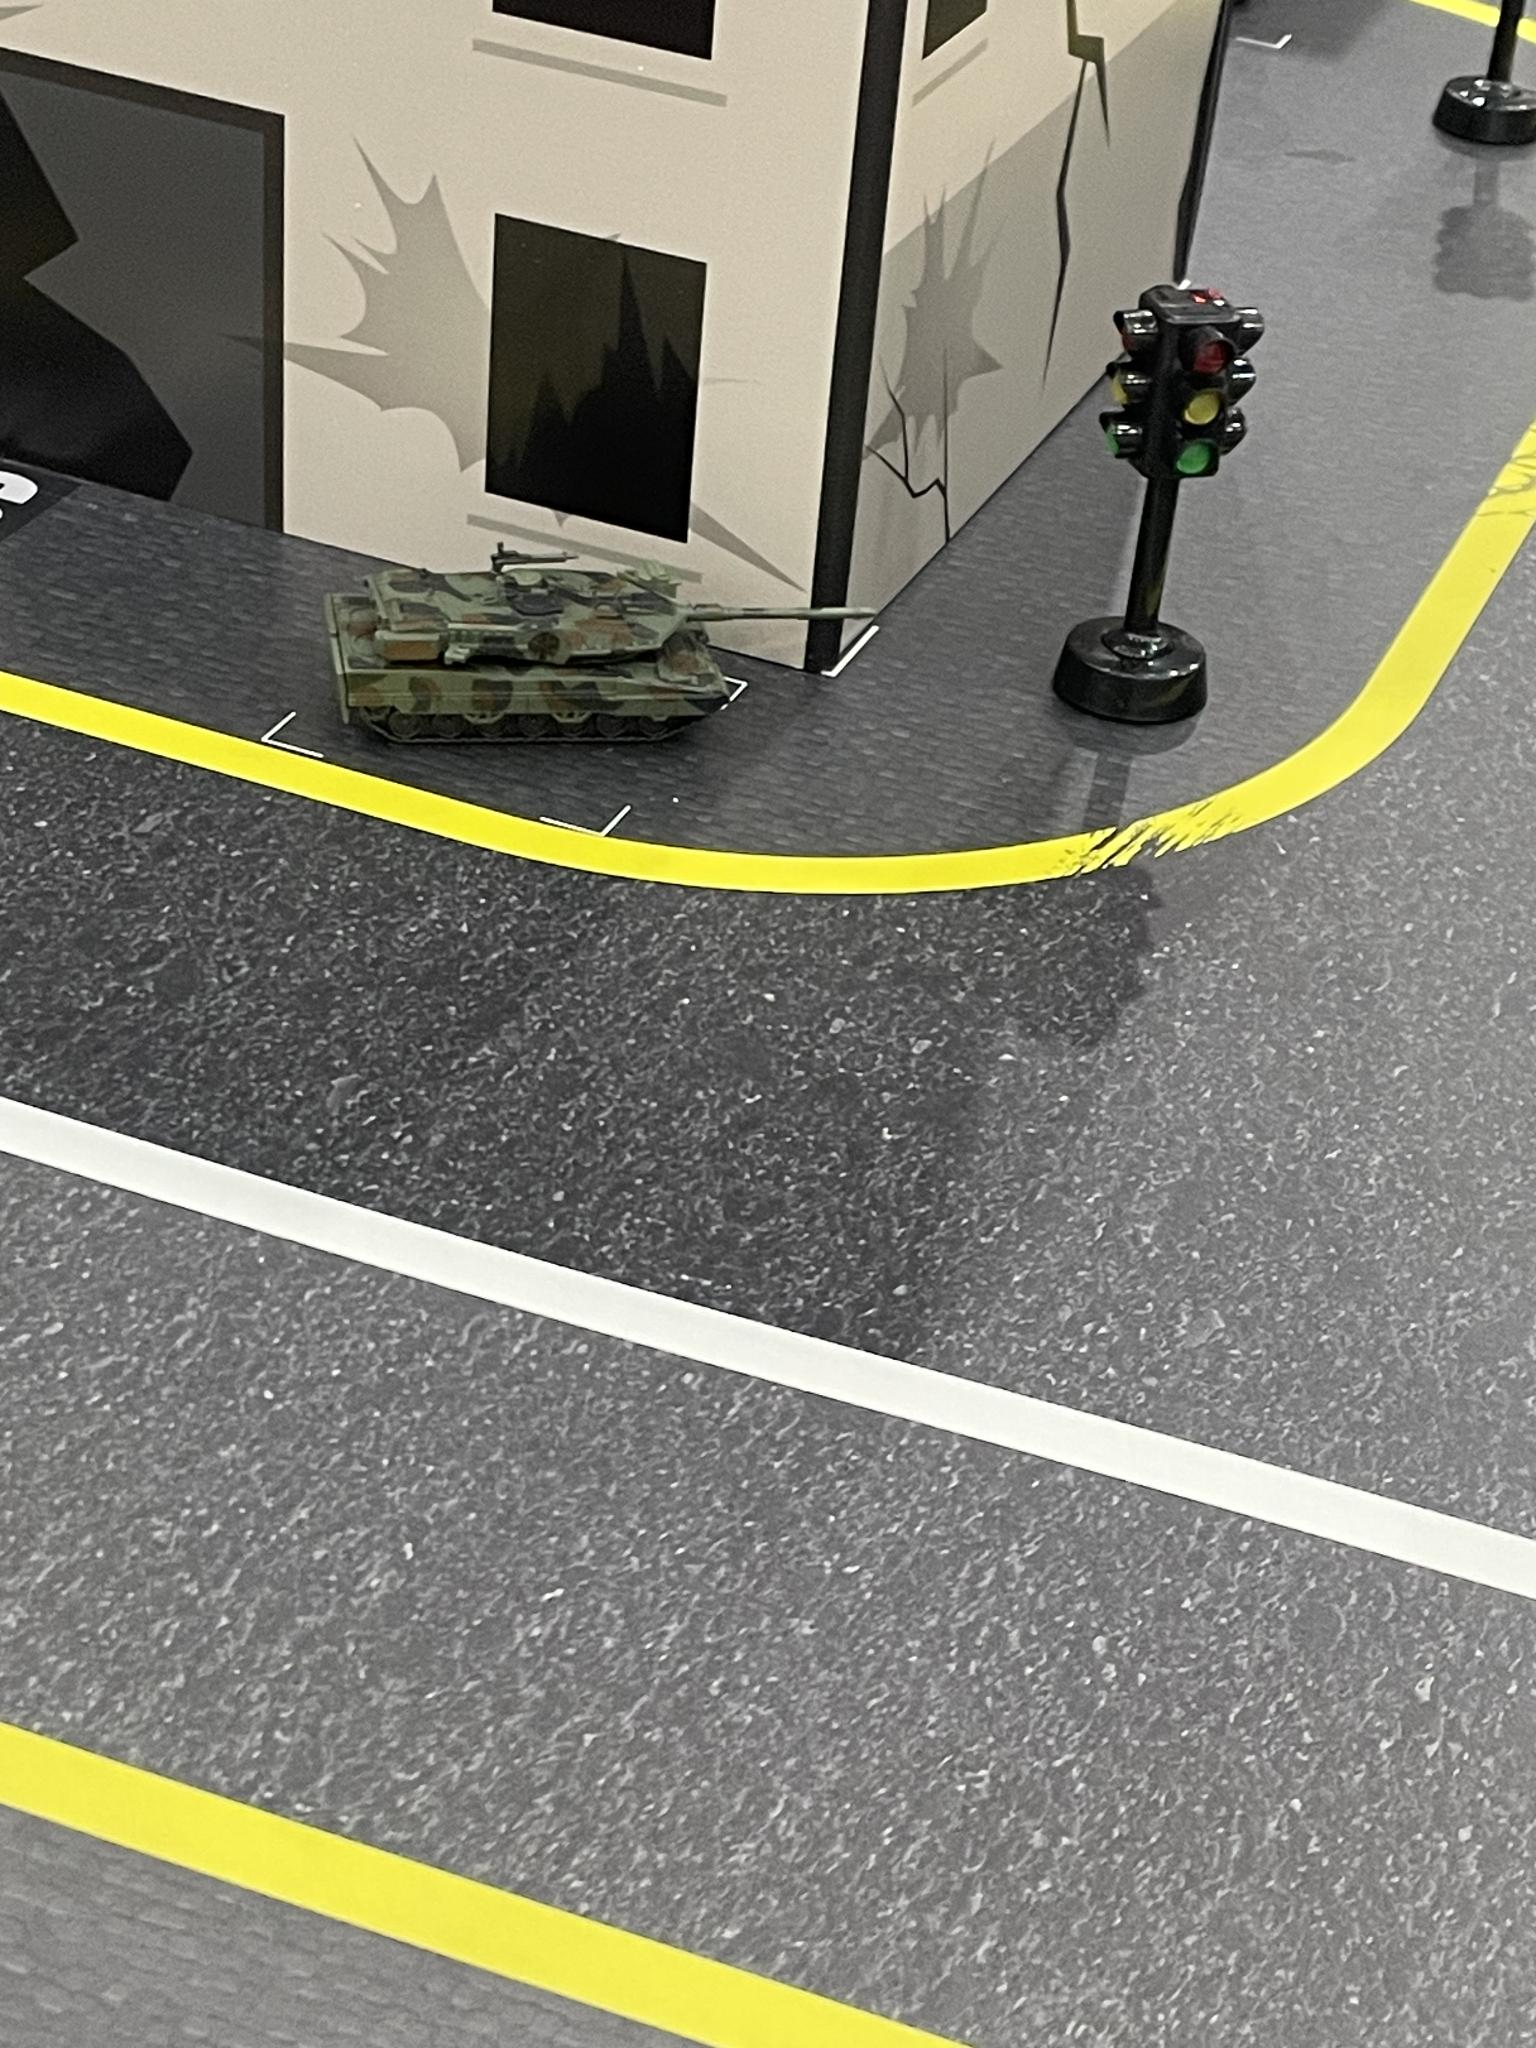Tank: (315, 539, 891, 751)
